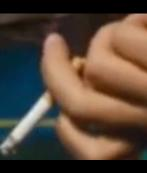Cigarette: (0, 57, 80, 153)
